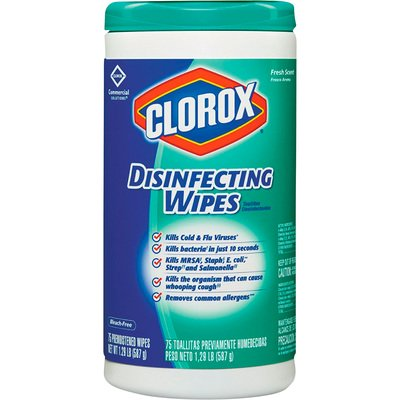Wipes: (99, 1, 301, 399)
